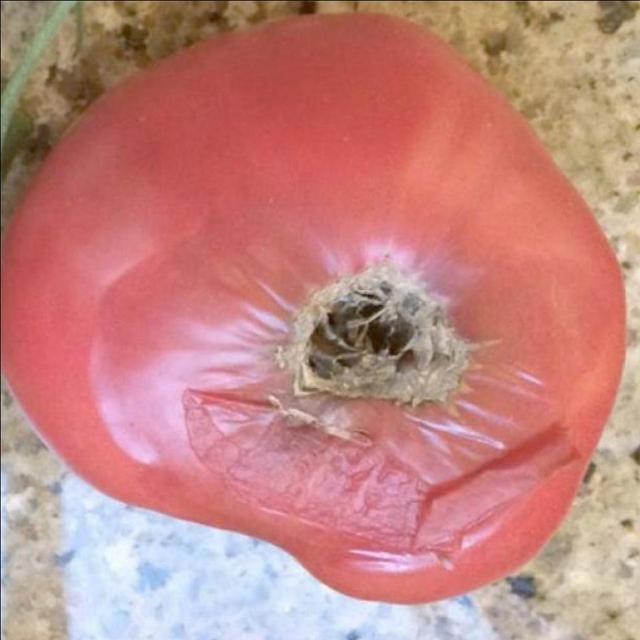Blossom End Rot Fruit: (176, 166, 333, 302)
